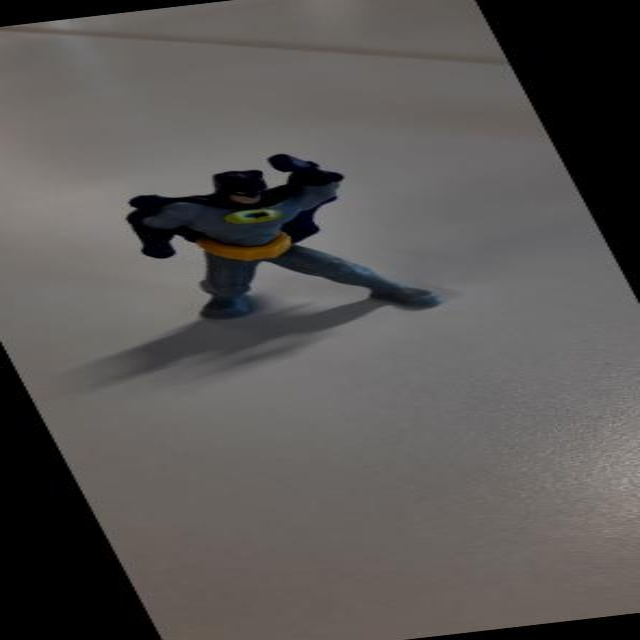Batman: (78, 147, 469, 352)
